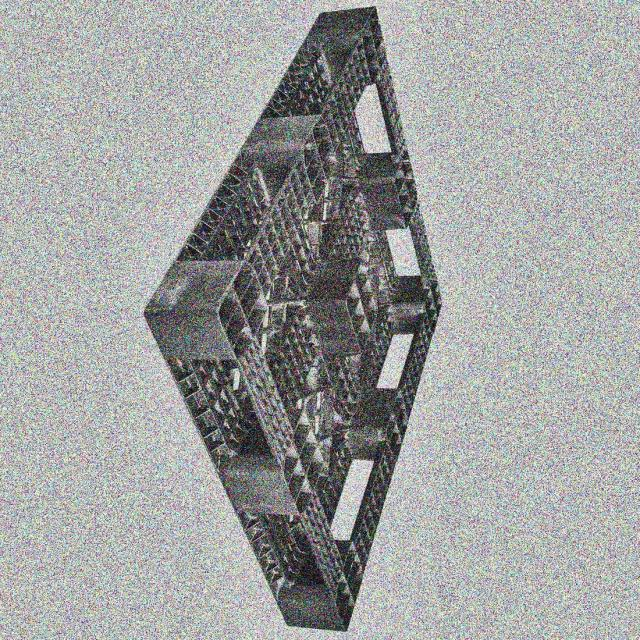non-igps: (137, 3, 449, 636)
